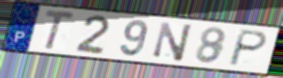2: (74, 14, 112, 56)
8: (194, 26, 228, 65)
9: (119, 19, 149, 57)
N: (151, 21, 195, 63)
P: (225, 29, 270, 68)
T: (43, 8, 77, 52)
